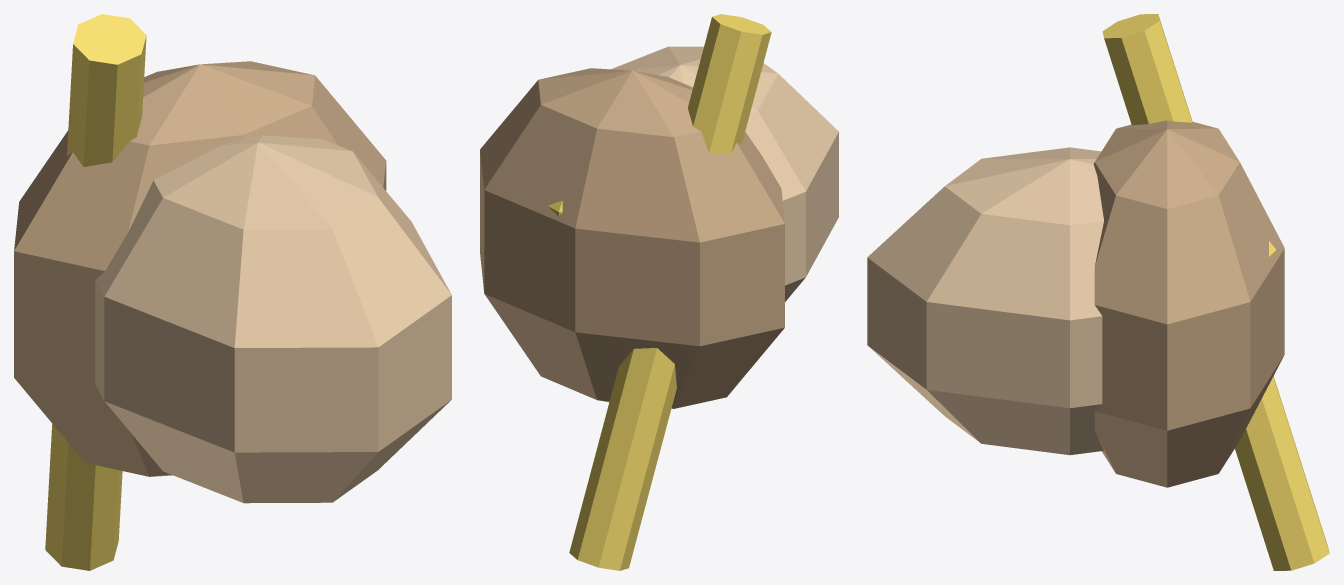
File: sig_hamster.glb
3 renders of one model, left to right at view 1: azimuth 30°, elevation 25°; view 2: azimuth 150°, elevation 25°; view 3: azimuth 270°, elevation 25°, orthographic. The views are drawn at different scales.
Parts seen in each view (by area): view 1: Sphere.002, Sphere.001, Cylinder; view 2: Sphere.001, Cylinder, Sphere.002; view 3: Sphere.001, Sphere.002, Cylinder.
Part boxes in pixels (x1,y1,x2,y2): Sphere.002: (95,135,451,503); Sphere.001: (14,61,386,476); Cylinder: (45,14,146,570); Sphere.001: (480,68,784,408); Cylinder: (569,14,771,570); Sphere.002: (611,46,838,301); Sphere.001: (1093,120,1284,487); Sphere.002: (867,147,1103,455); Cylinder: (1102,14,1329,570).
Size of the model in its own units: 0.1484 by 0.2359 by 0.1899.
